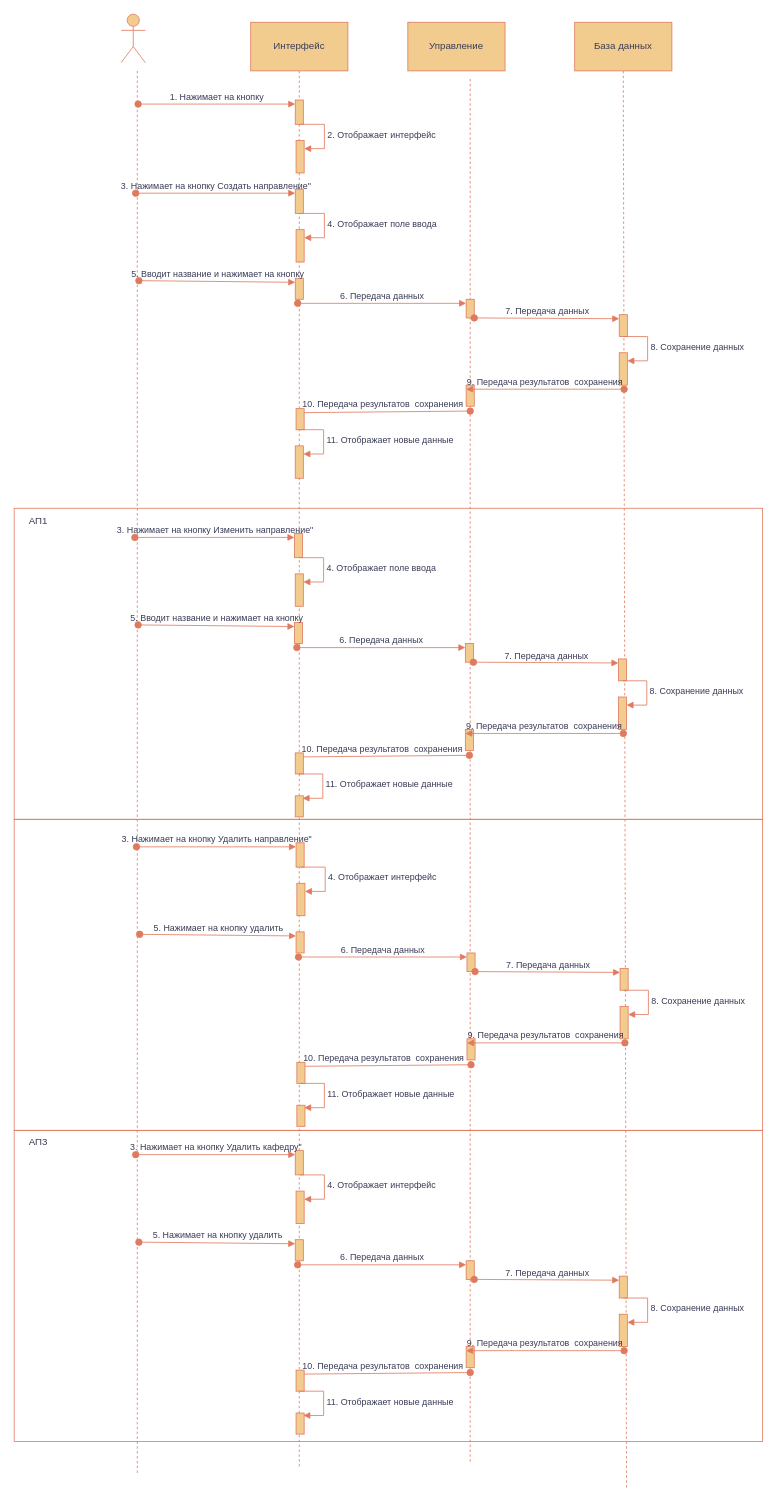
Image size: 777x1503. Some labels were removed from this diagram. Each missing label, with the box of its shape:
АП2: (13, 819, 763, 1130)
Пользователь: (120, 13, 145, 63)
